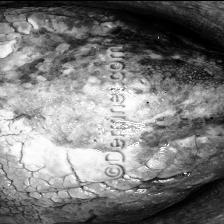Non-Cancerous Skin Condition: (0, 35, 94, 202)
